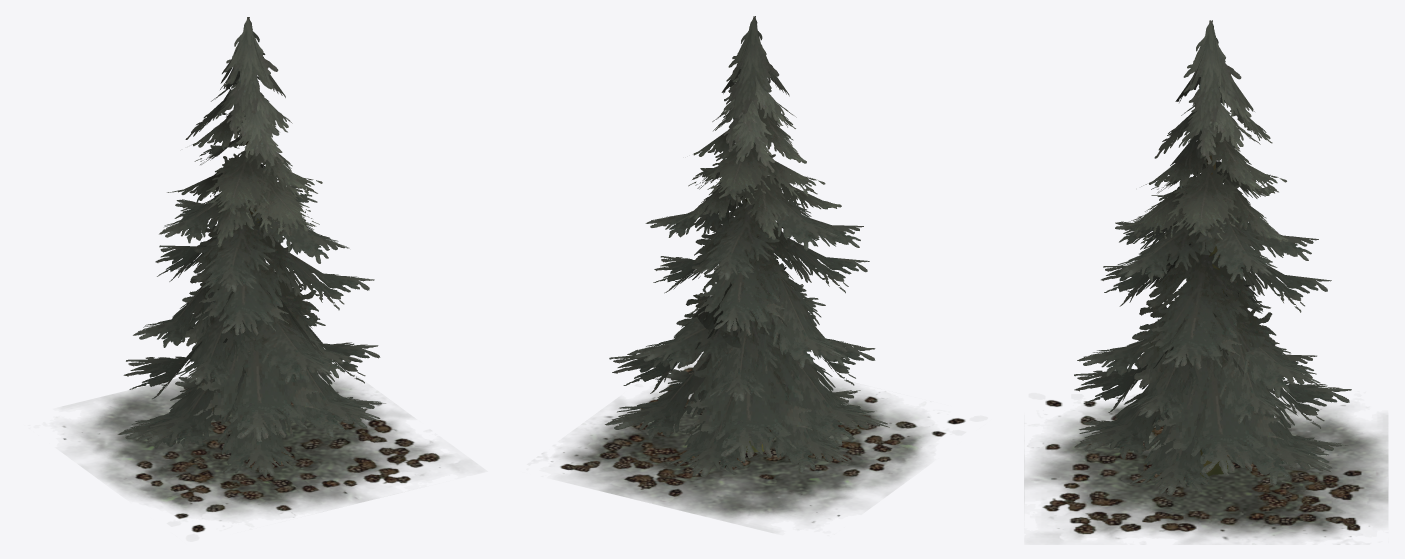
3 views of the same model, side by side, from view 1: azimuth 30°, elevation 25°; view 2: azimuth 150°, elevation 25°; view 3: azimuth 270°, elevation 25° (orthographic). The views are drawn at different scales.
Parts seen in each view (by area): view 1: plants_fir_a-1-plant, plants_fir_a-0-underlay; view 2: plants_fir_a-1-plant, plants_fir_a-0-underlay; view 3: plants_fir_a-1-plant, plants_fir_a-0-underlay.
Part boxes in pixels (box(x1,y1,x2,y2)): plants_fir_a-1-plant: box(117, 17, 385, 477); plants_fir_a-0-underlay: box(62, 373, 456, 532); plants_fir_a-1-plant: box(605, 16, 889, 476); plants_fir_a-0-underlay: box(551, 357, 965, 522); plants_fir_a-1-plant: box(1074, 20, 1351, 495); plants_fir_a-0-underlay: box(1024, 398, 1388, 542).
Size of the model in its own units: 9 by 12.44 by 9.06.
3 materials, 3 textured.
